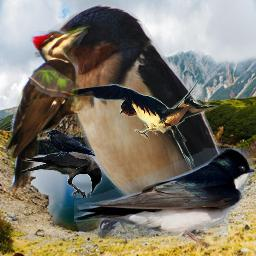Crow: (21, 151, 102, 198), (45, 129, 96, 157)
Swallow: (35, 3, 240, 239), (74, 148, 255, 248), (59, 76, 244, 172)
Woodpecker: (4, 23, 94, 194)
